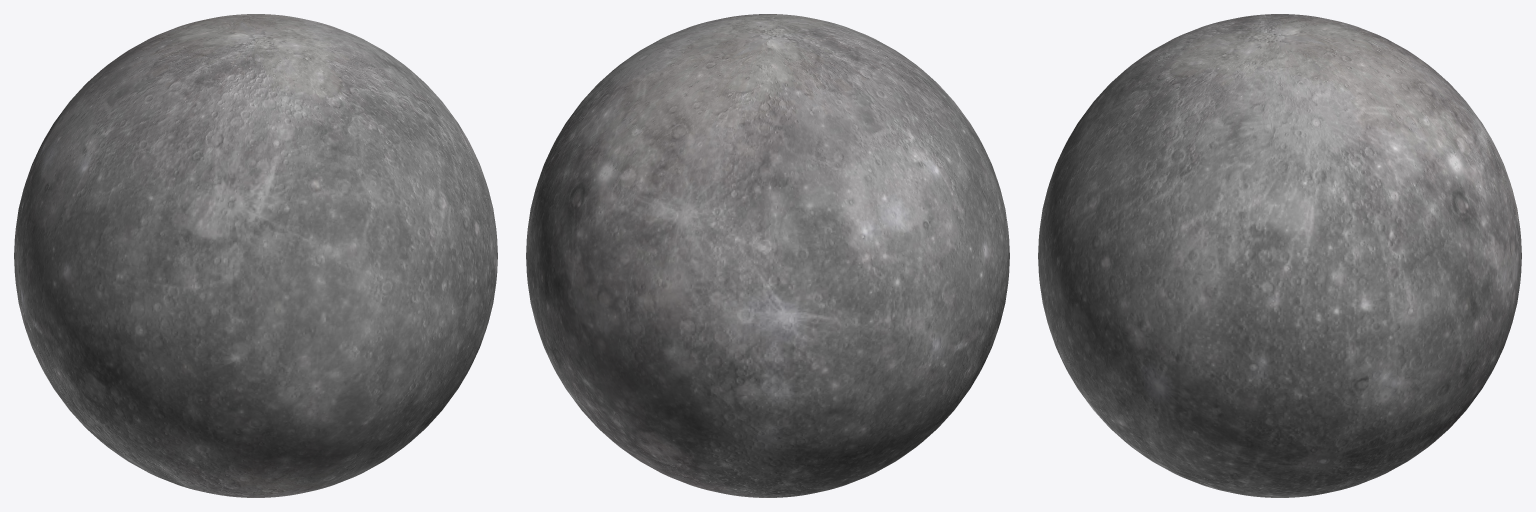
File: mercury.glb
The picture shows the model from 3 angles, left to right: view 1: azimuth 30°, elevation 25°; view 2: azimuth 150°, elevation 25°; view 3: azimuth 270°, elevation 25°; orthographic projection.
Size of the model in its own units: 2 by 2 by 2.
1 material, 1 textured.
